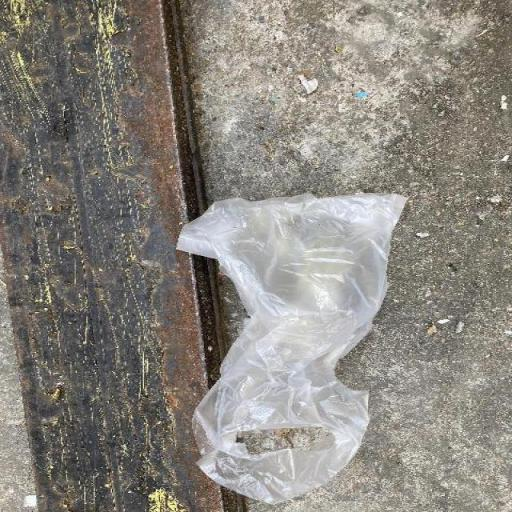plastic-bag: (172, 188, 411, 502)
